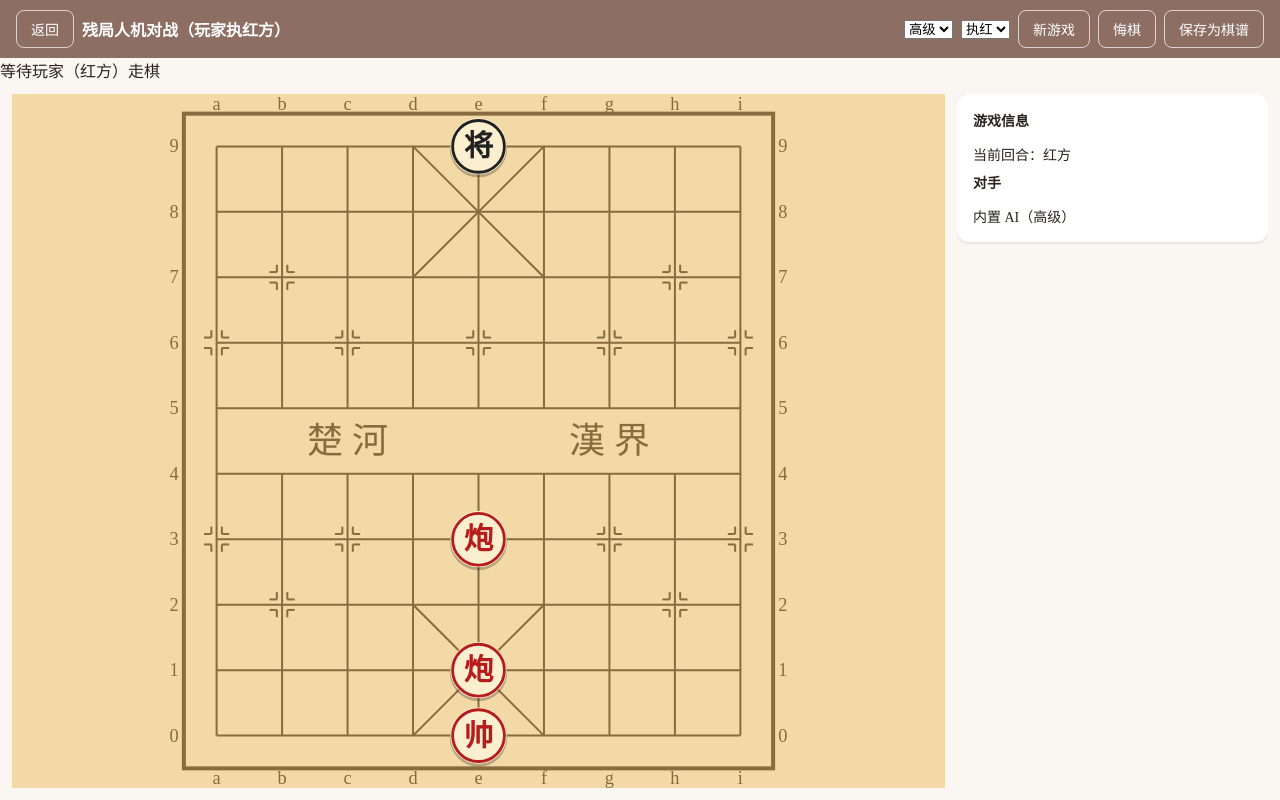
Test case: 人机对战页（08 §3.1 / human_vs_ai_page_test 等价集） › 残局模式下"新游戏"回到残局始盘而非标准开局（等价 #2）
Expected: the text "游戏信息" is shown, [973,114,1029,129]
Expected: the message shows "等待玩家", [0,63,160,80]
Step 1. Click the button "新游戏" → (1054, 29), box [1018,10,1090,48]
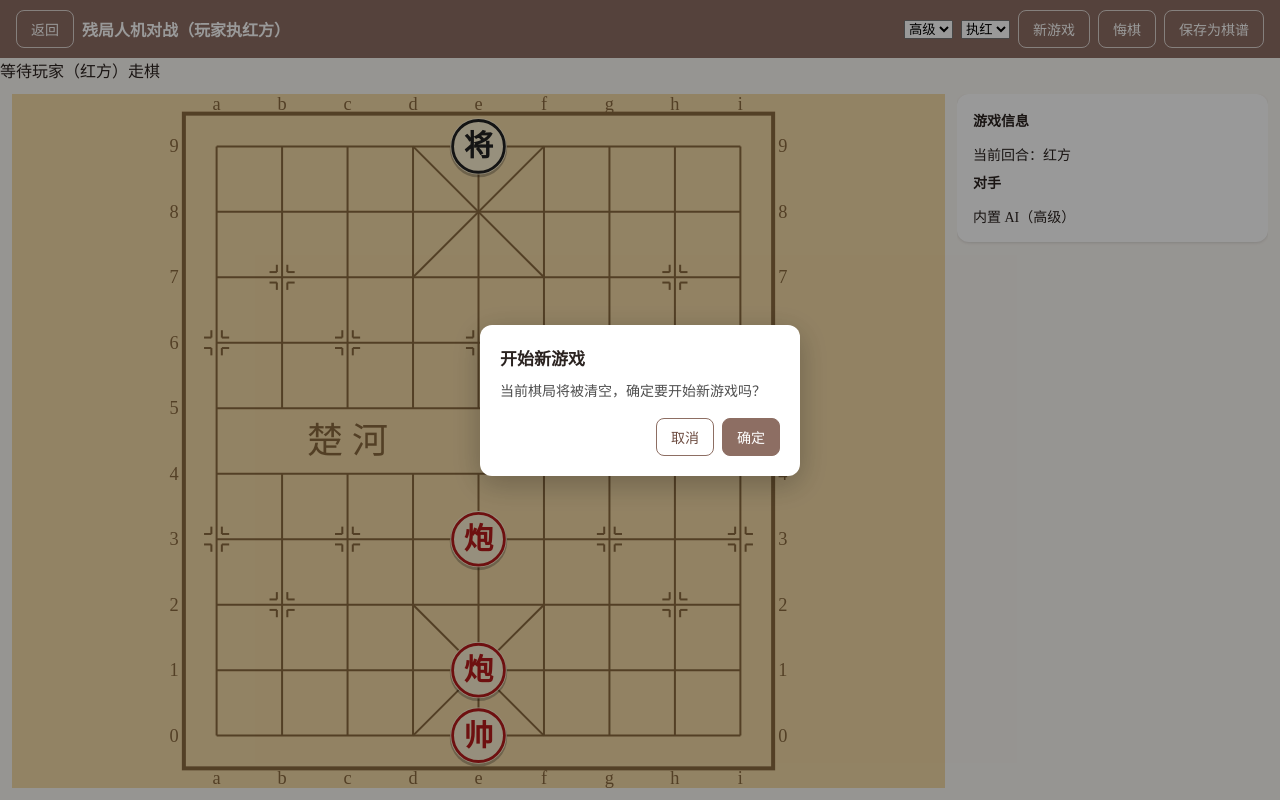
Step 2. Click the button with class "cc-btn-primary" → (751, 436), box [722,418,780,456]
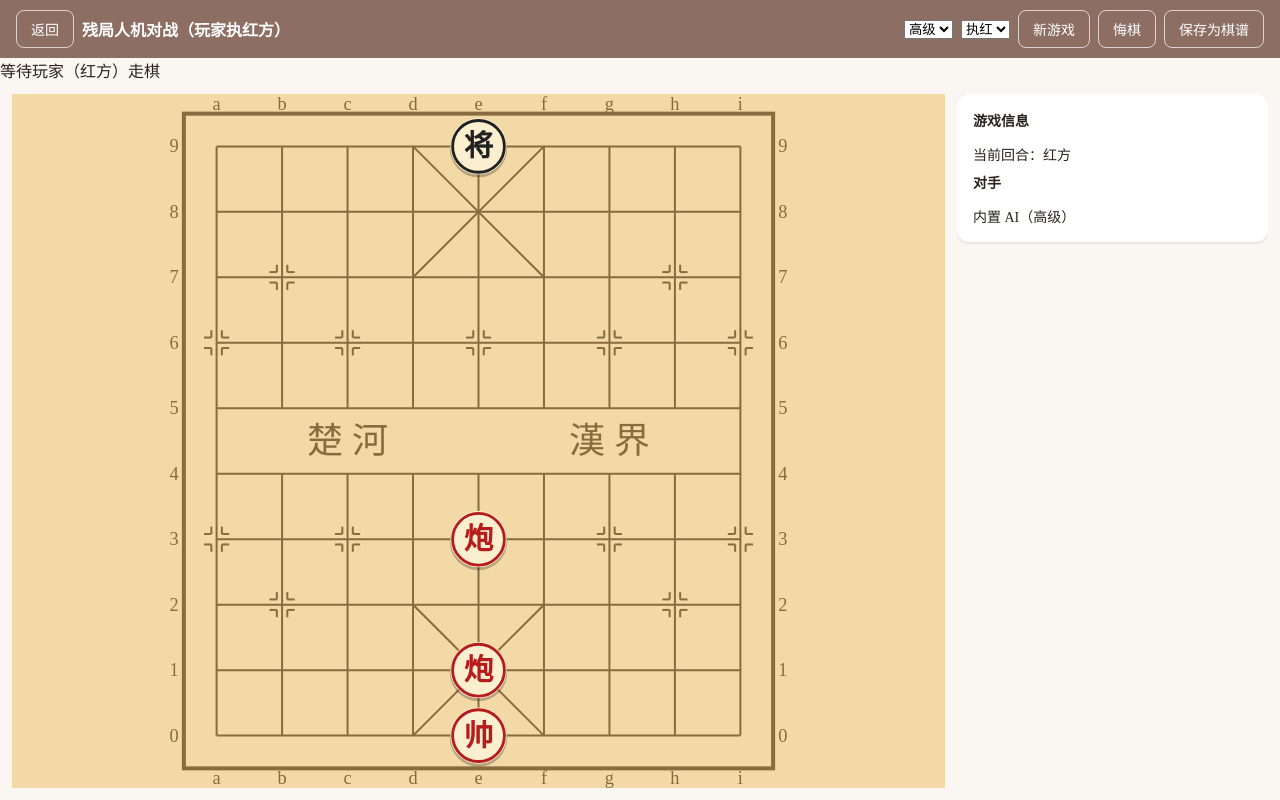
Expected: the message shows "等待玩家（红方）", [0,63,160,80]
Expected: the element with test id "confirm-dialog" is gone
